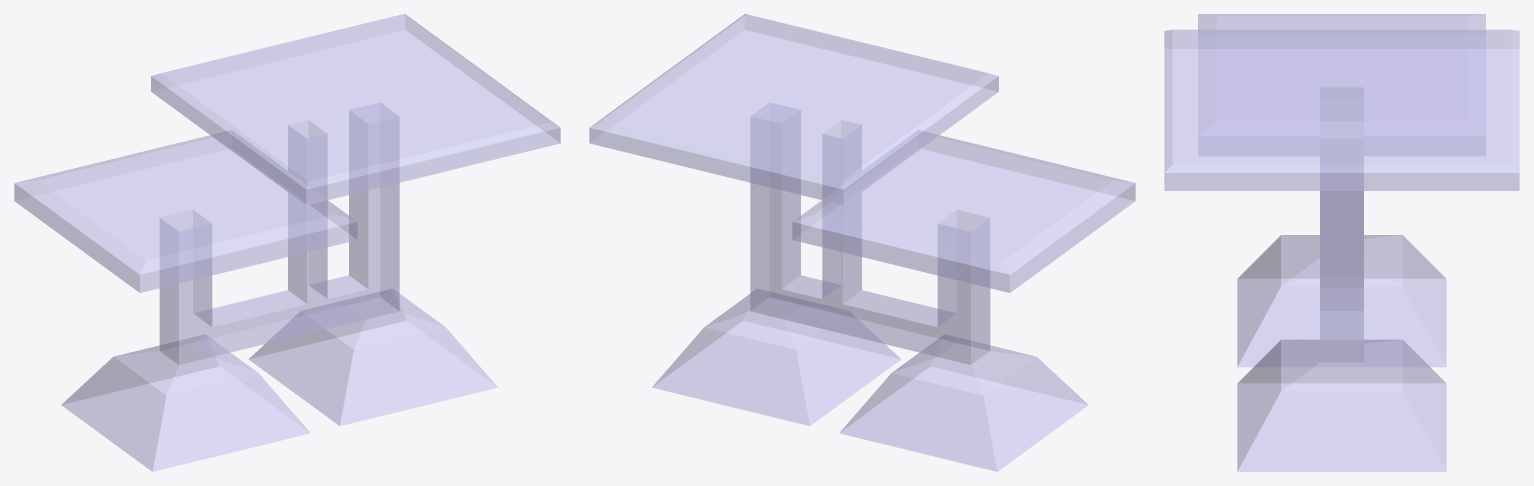
File: table20.fbx
3 views of the same model, side by side, from view 1: azimuth 30°, elevation 25°; view 2: azimuth 150°, elevation 25°; view 3: azimuth 270°, elevation 25° (orthographic). The views are drawn at different scales.
Visible parts, largest first — view 1: Table20; view 2: Table20; view 3: Table20.
Boxes of the visible parts, <box> form: Table20: <box>14,14,560,471</box>; Table20: <box>589,14,1135,471</box>; Table20: <box>1164,14,1519,471</box>.
Bounding box in the file's own units: 121 × 80.03 × 80.46.
